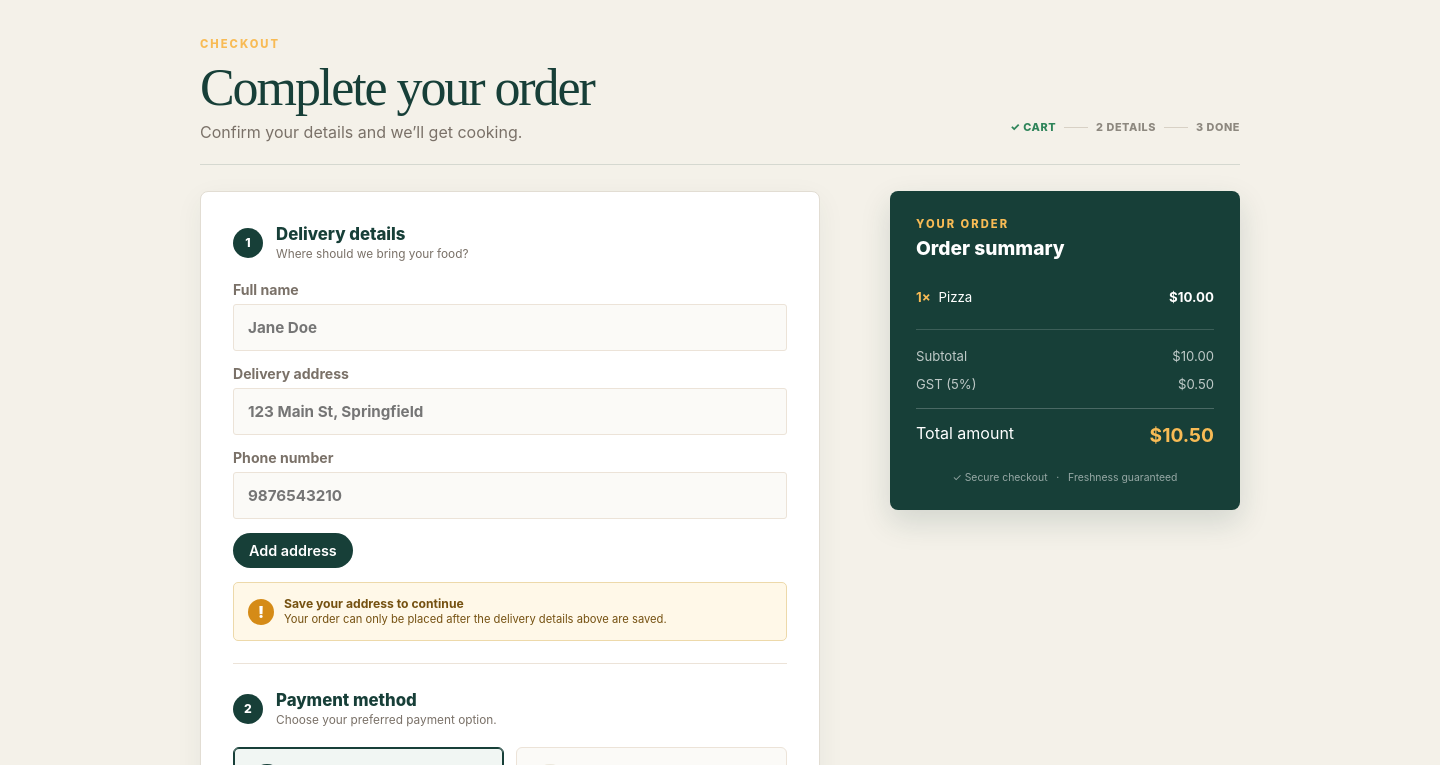
Test: Checkout › shows validation errors when required fields are missing
Click the button "Add address" at (293, 551), box left=233, top=533, right=353, bottom=568
(page scrolled)
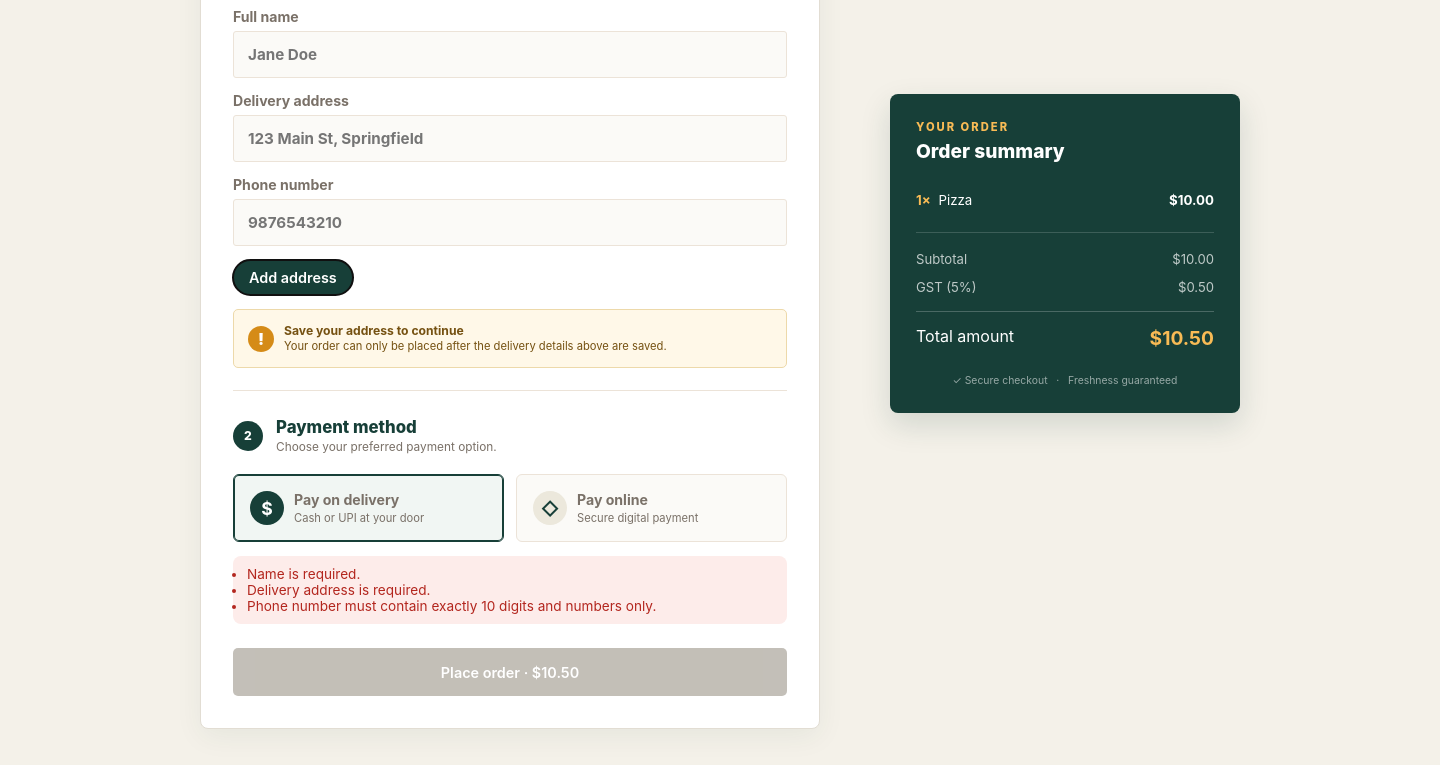
Now the list item "Name is required." is shown, box left=247, top=566, right=360, bottom=582
Now the list item "Delivery address is required." is shown, box left=247, top=582, right=430, bottom=598
Now the list item "exactly 10 digits" is shown, box left=247, top=598, right=656, bottom=614
